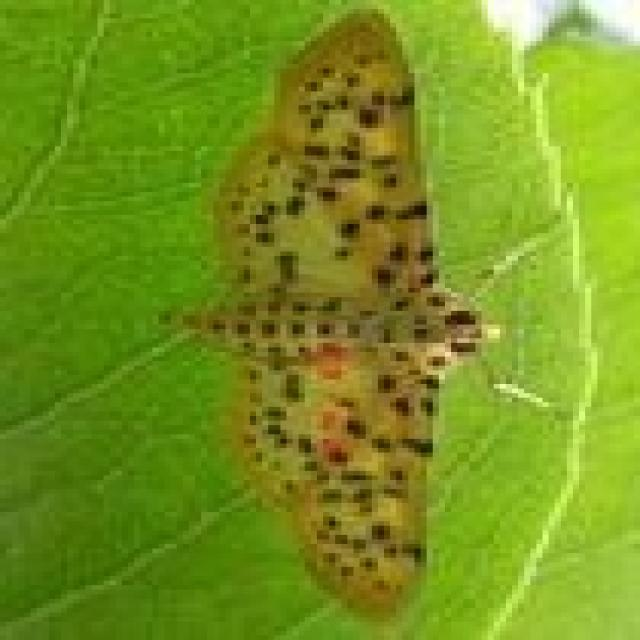peach borer: (150, 15, 522, 627)
